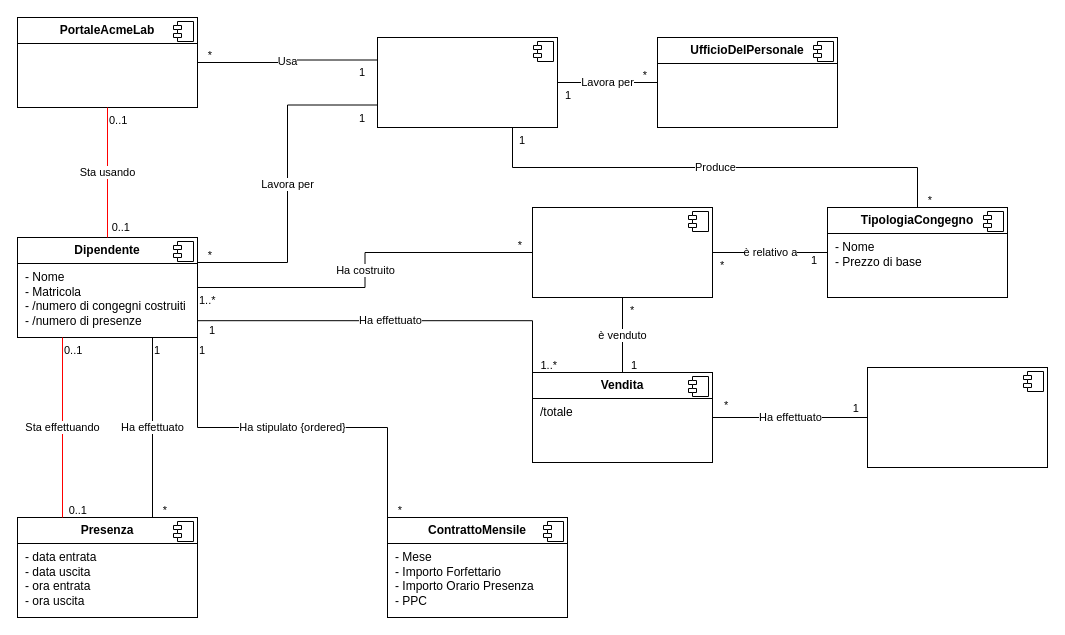
Some shapes in this 1065 by 635 pixel diagram are drawn without their labels. Here are the shapes that lost their labels. From the top down, the centre of each, then its label:
At (467,82): "Laboratorio Acme 1".
At (622,252): "CongegnoCostruito - numero di serie - /numero di dipendenti - /QDC".
At (957,417): "Cliente - nome - cognome - codice fiscale - codice identificativo".
